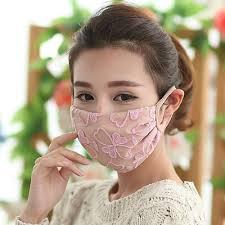OK: (73, 77, 165, 169)
